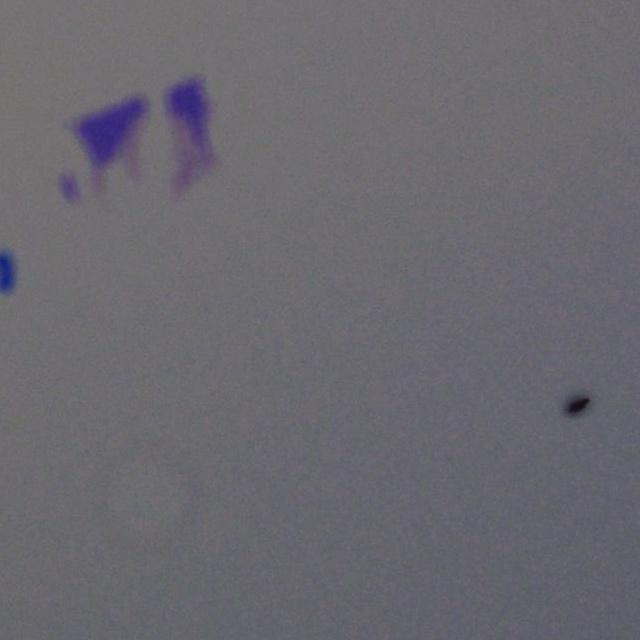monolayer-eWW4: (168, 120, 214, 201)
